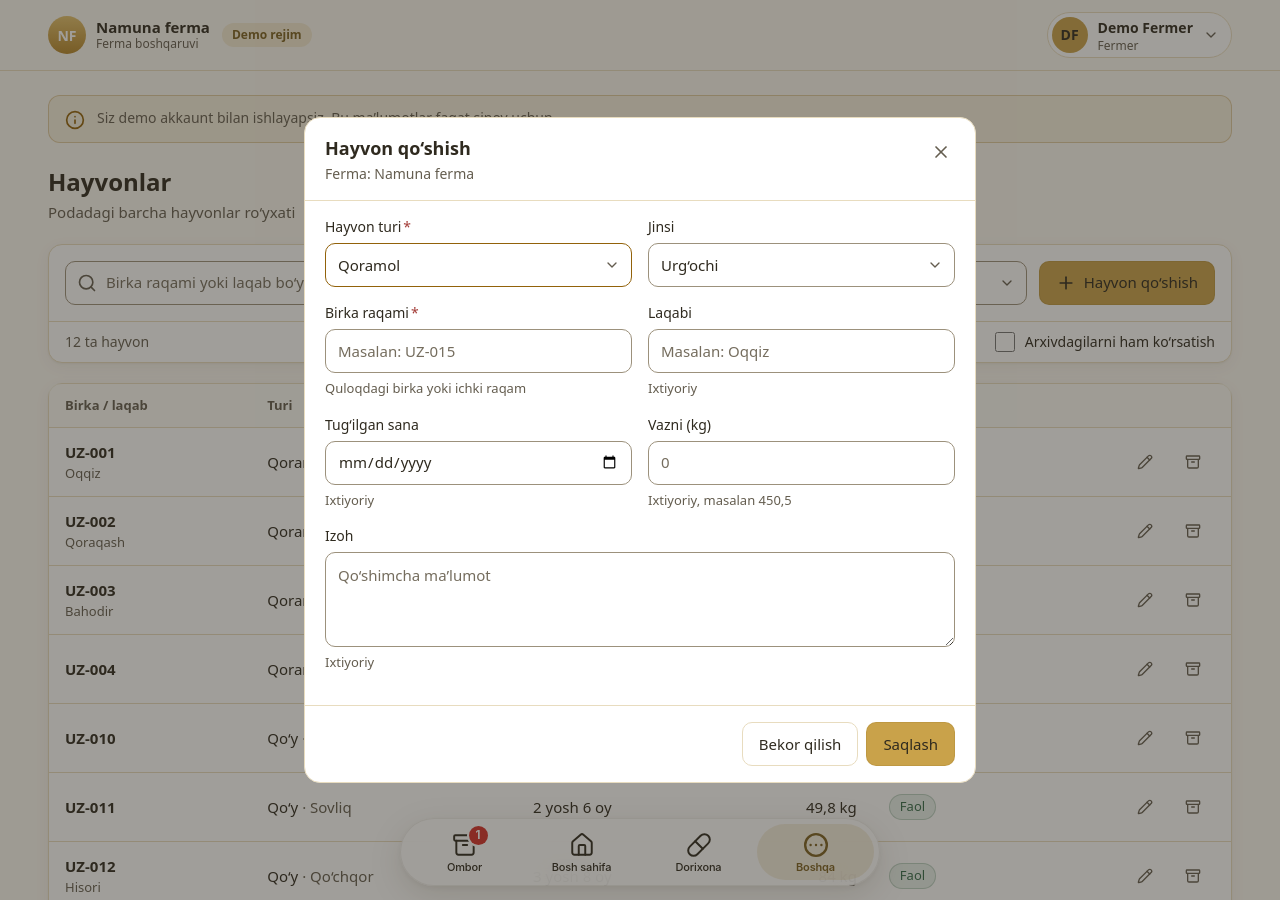
it: animals › creates an animal with backend-compatible fields (decimal as string, no empty fields)
The width and height of the screenshot is (1280, 900).
Select "Echki" in the dropdown labelled "Hayvon turi*" at (478, 265), box [325,243,632,287]
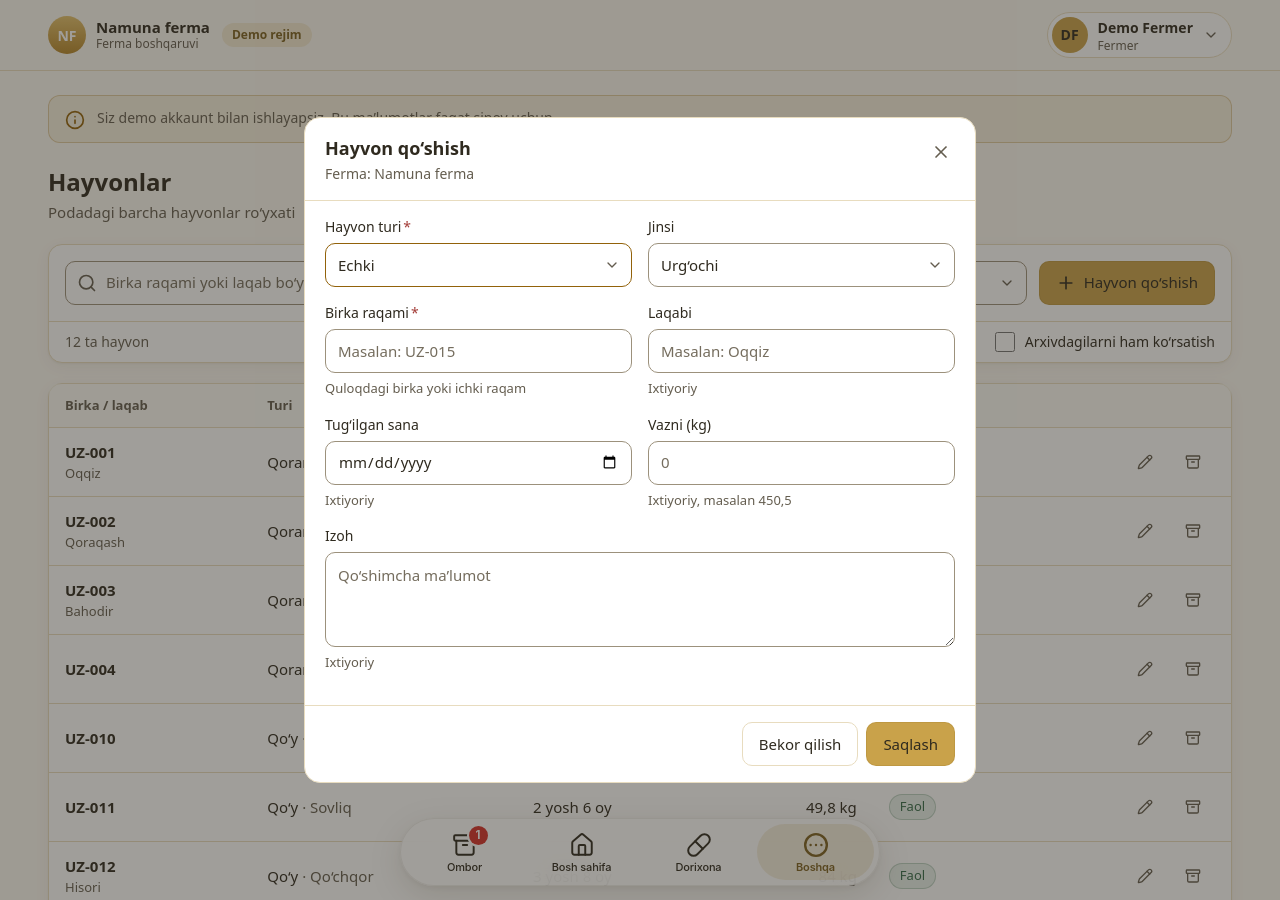
Type "UZ-777" into the field labelled "Birka raqami*" at (478, 351), box [325,329,632,373]
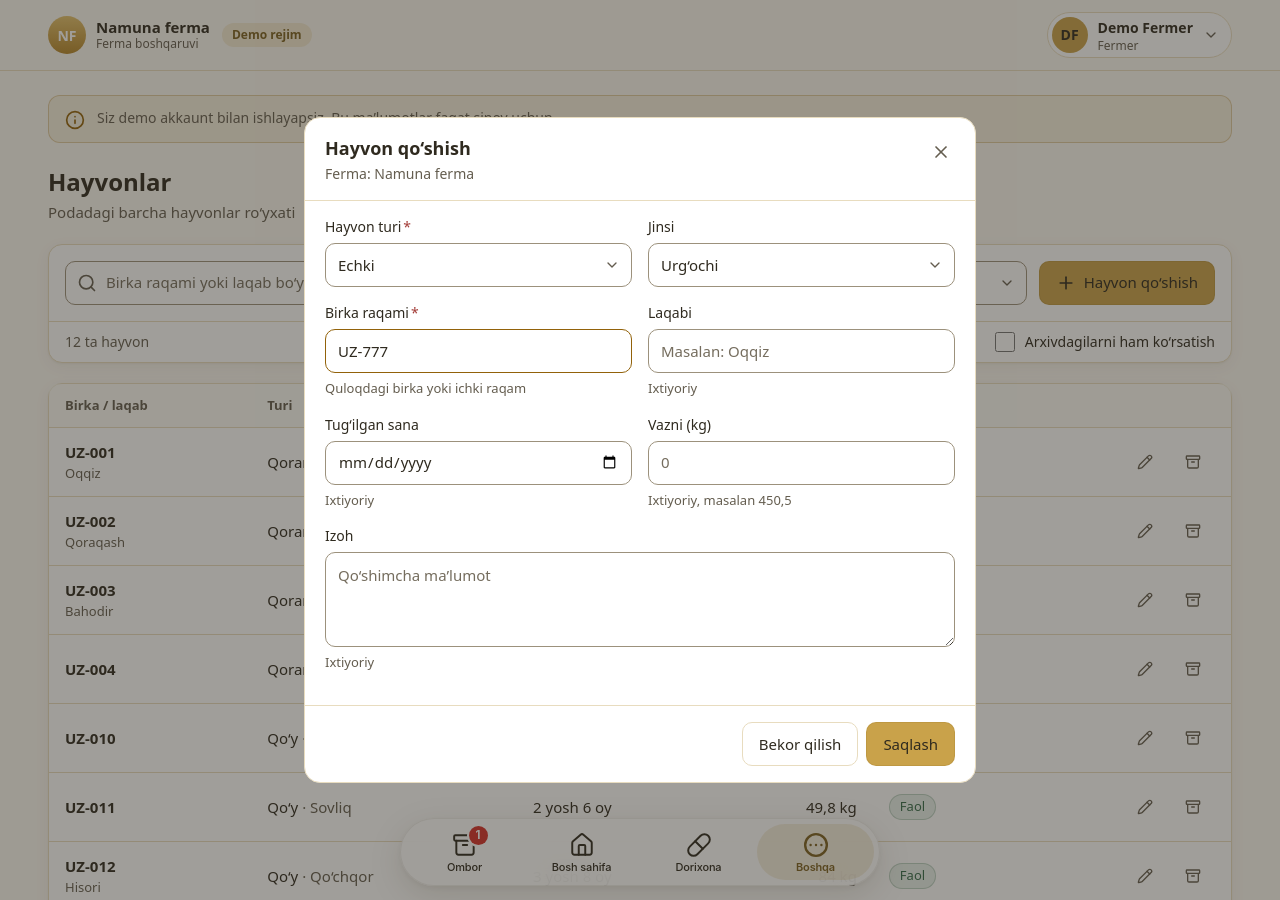
Type "35,5" into the field labelled "Vazni (kg)" at (802, 463), box [648,441,955,485]
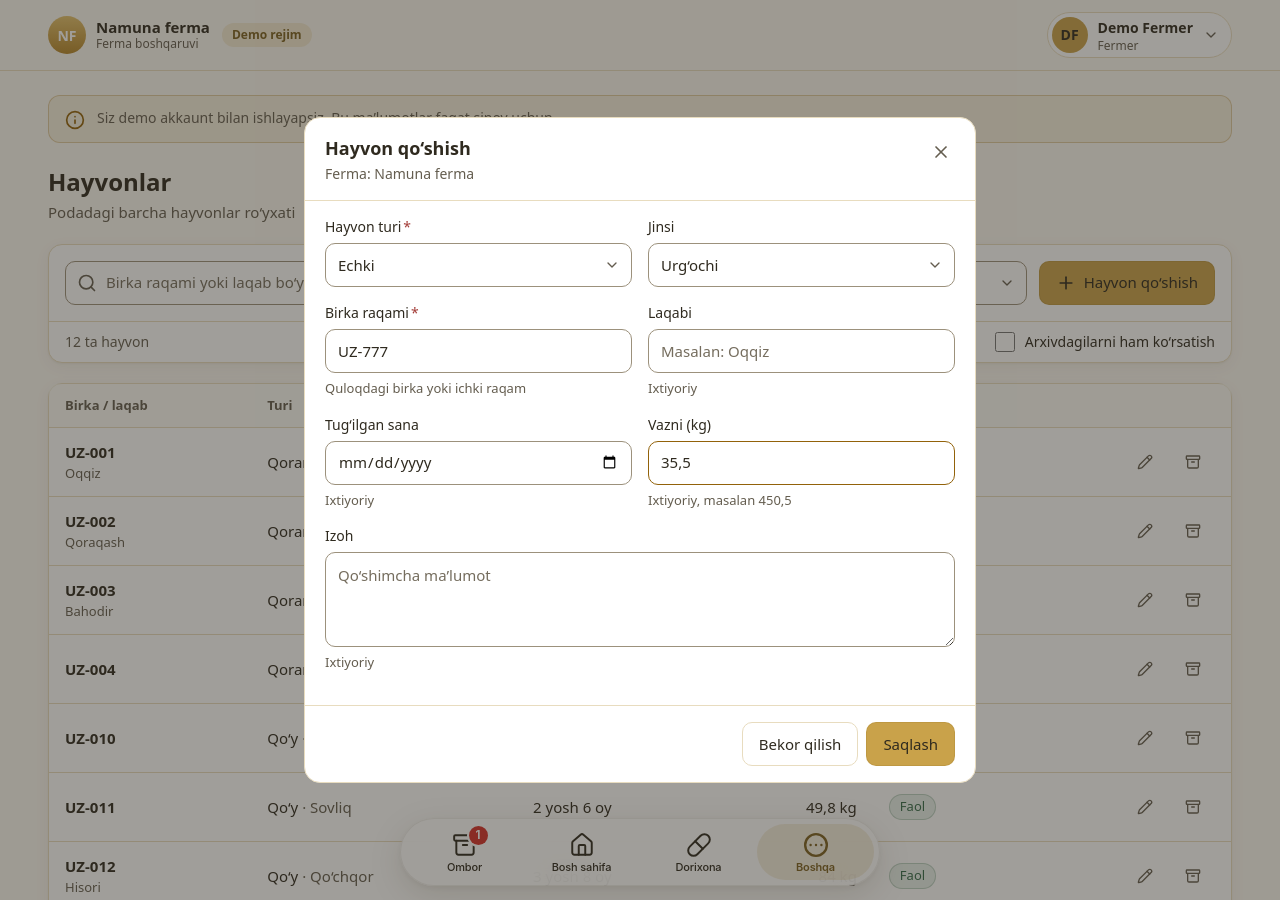
Click the button "Saqlash" at (911, 744), box [866,722,955,766]
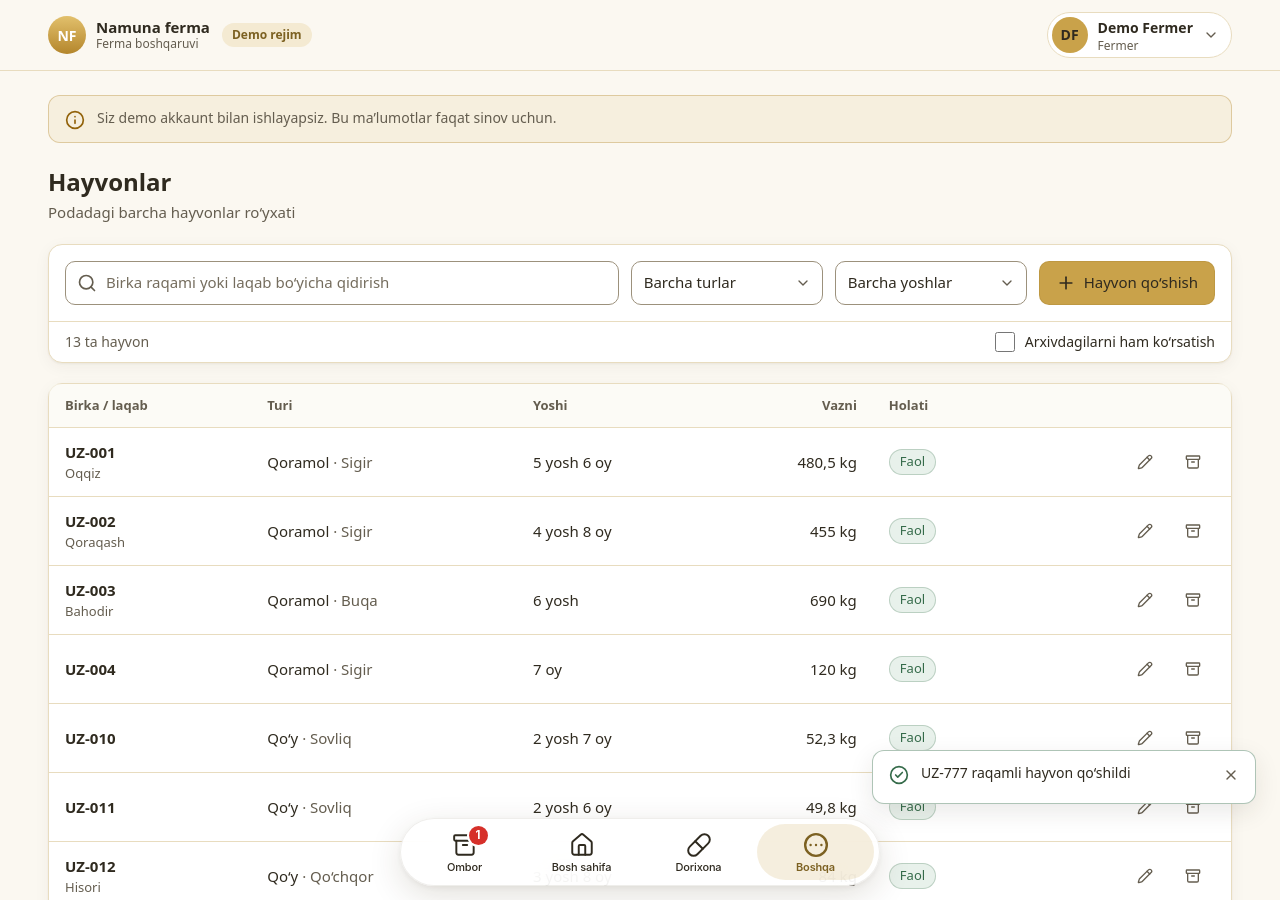
Now the dialog is gone
Now the text "UZ-777 raqamli hayvon qo‘shildi" is shown, box [921,763,1131,782]
